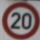20 km speed: (1, 1, 39, 40)
